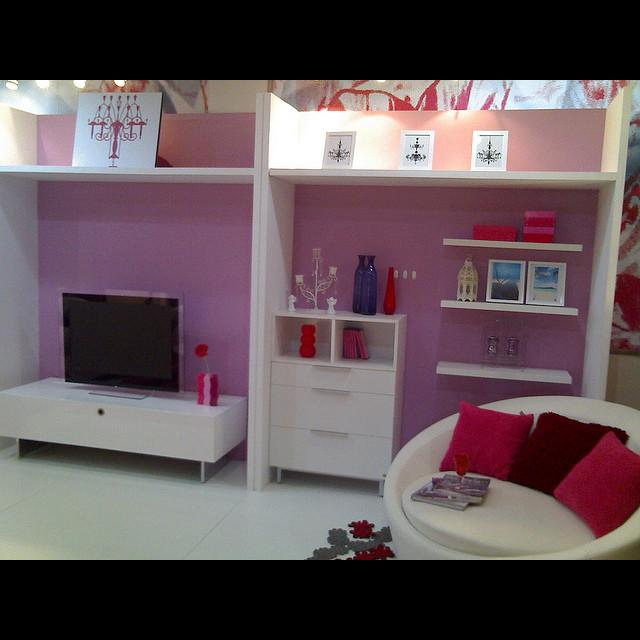Flat-Panel-TV: (61, 294, 181, 392)
